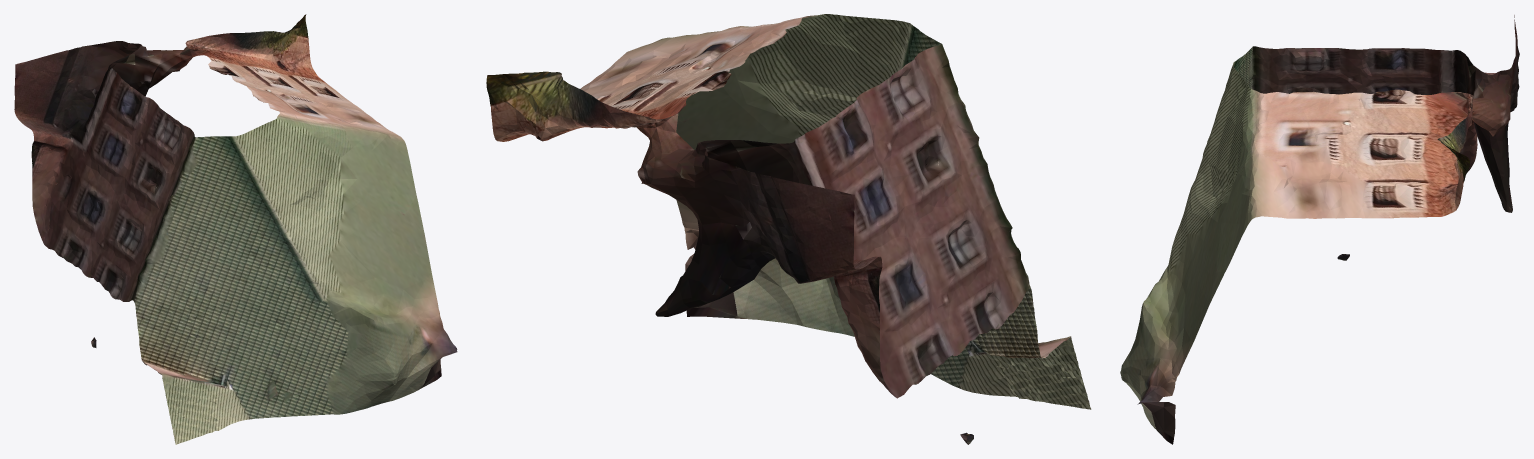
File: tile_12_5.obj
3 renders of one model, left to right at view 1: azimuth 30°, elevation 25°; view 2: azimuth 150°, elevation 25°; view 3: azimuth 270°, elevation 25°, orthographic. The views are drawn at different scales.
Visible parts, largest first — view 1: texture_0; view 2: texture_0; view 3: texture_0.
Boxes of the visible parts, left/top/right/bottom form: texture_0: left=14, top=14, right=457, bottom=444; texture_0: left=486, top=14, right=1091, bottom=444; texture_0: left=1120, top=15, right=1519, bottom=444.
Bounding box in the file's own units: 13.88 × 12.92 × 16.3.
Materials: 1 (1 with a texture image).
